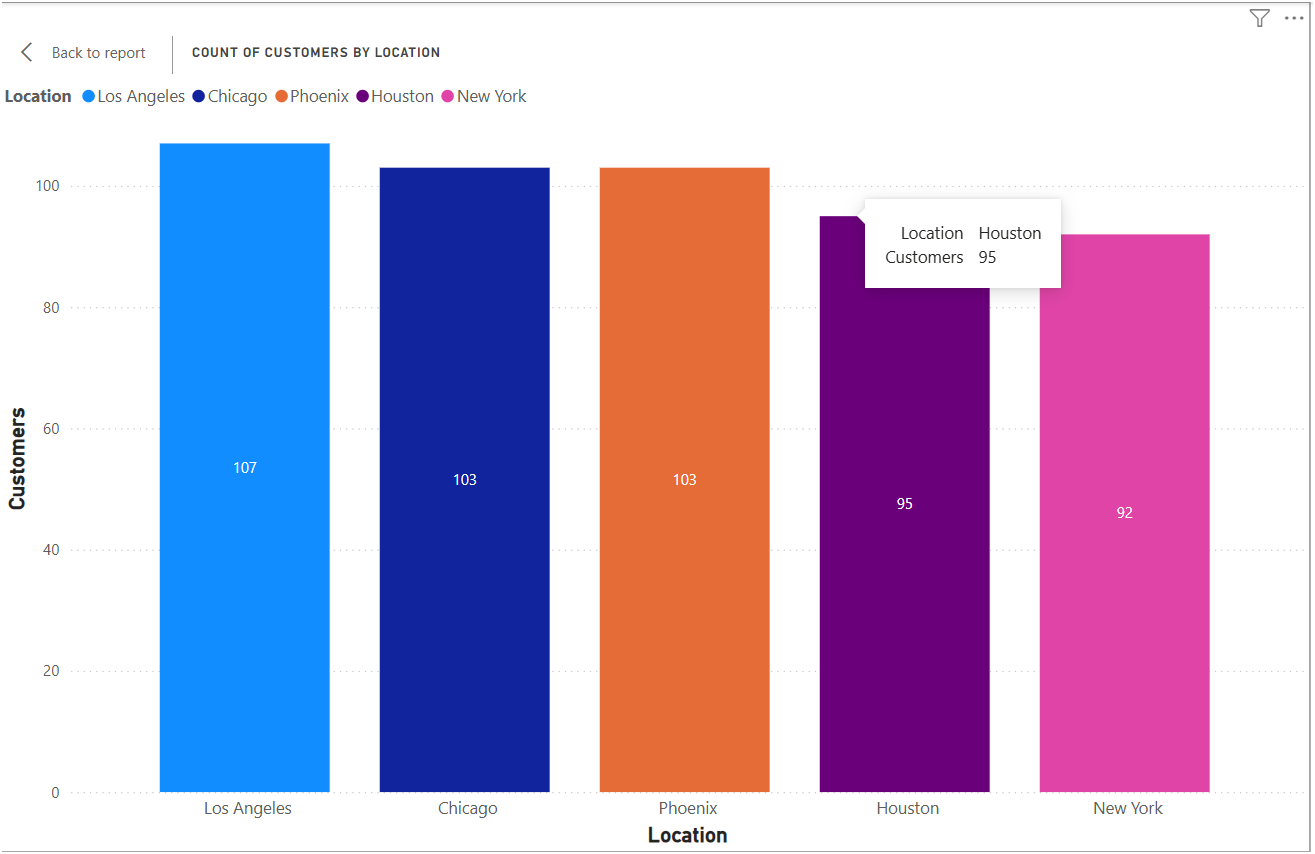

The dashboard page shown, as its layout file describes it:
{"tool":"powerbi","page":{"name":"Delinquent _Account_Location","canvas":[1280,720],"ordinal":8},"visuals":[{"type":"columnChart","fields":{"Category":["Delinquency_prediction_dataset_PBI _FINAL.Location"],"Y":["CountNonNull(Delinquency_prediction_dataset_PBI _FINAL.Delinquent_Account)"],"Series":["Delinquency_prediction_dataset_PBI _FINAL.Delinquent_Account"]},"box":[10,0,1270.3,720.4],"z":0}]}

Visuals, with their boxes on the page's 1280x720 design canvas (x1, y1, x2, y2). These are canvas units, not pixel positions in the 1315x854 screenshot, which may show the page scaled, cropped or inside an application window:
columnChart - Delinquency_prediction_dataset_PBI _FINAL.Location x CountNonNull(Delinquency_prediction_dataset_PBI _FINAL.Delinquent_Account): box(10, 0, 1280, 720)
